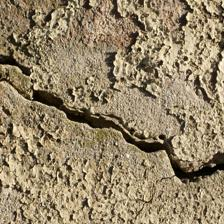Crack: (18, 43, 206, 145)
